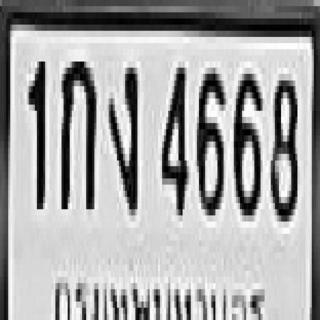A01: (60, 55, 94, 203)
A07: (107, 62, 135, 209)
N01: (27, 55, 43, 203)
N04: (160, 62, 187, 209)
N06: (195, 62, 224, 209), (232, 68, 261, 209)
N08: (269, 68, 295, 215)
